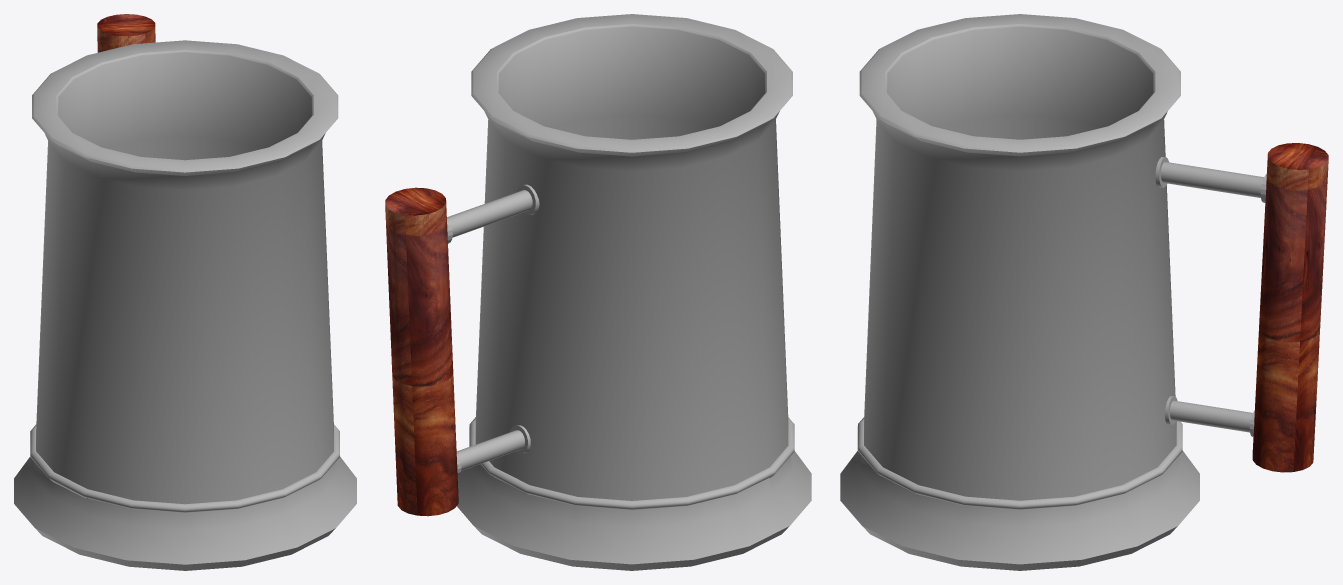
File: Tankard.fbx
The picture shows the model from 3 angles, left to right: view 1: azimuth 30°, elevation 25°; view 2: azimuth 150°, elevation 25°; view 3: azimuth 270°, elevation 25°; orthographic projection. The views are drawn at different scales.
Visible parts, largest first — view 1: Object; view 2: Object; view 3: Object.
Part boxes in pixels (x1=…): Object: x1=14, y1=14, x2=356, y2=570; Object: x1=385, y1=14, x2=811, y2=570; Object: x1=840, y1=14, x2=1328, y2=570.
Bounding box in the file's own units: 18 × 22.61 × 24.07.
